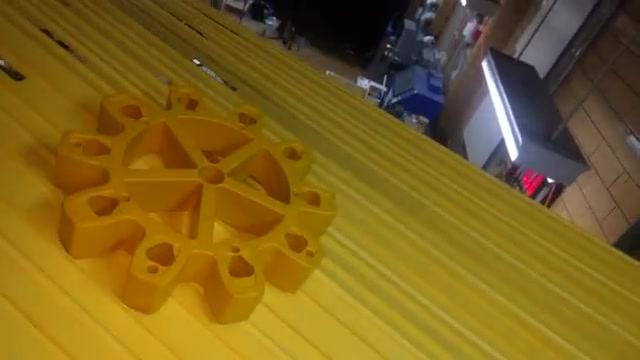gear: (35, 45, 356, 334)
